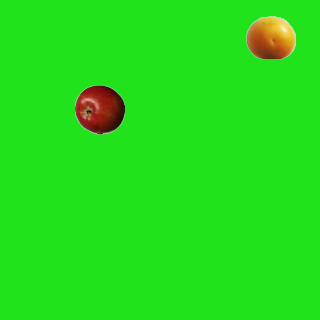Apple Braeburn: (74, 84, 124, 134)
Cherry Wax Yellow: (245, 12, 295, 62)
